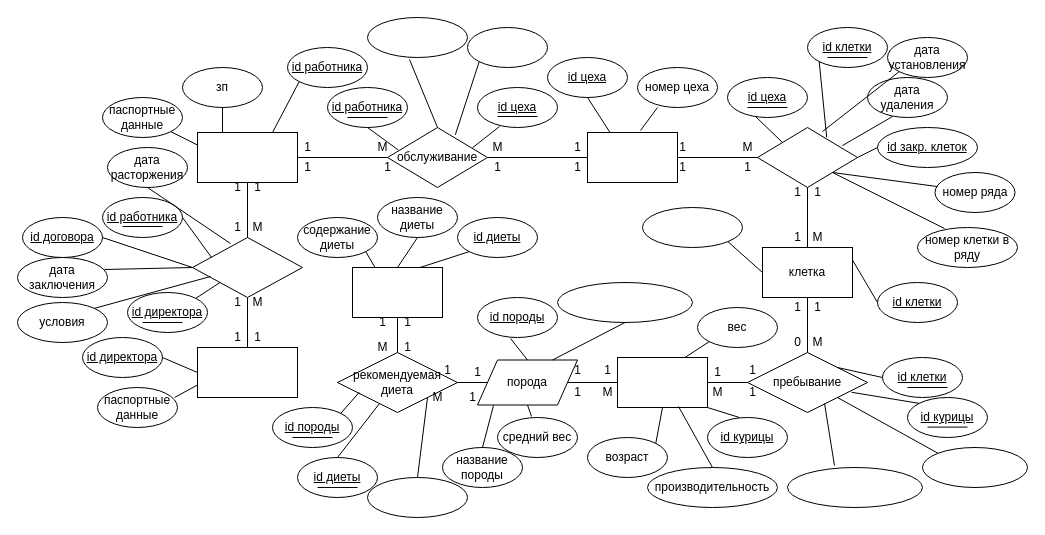
The diagram is 1045 pixels wide and 535 high, and some of its shapes have lost their labels. The shapes that lost their labels are listed below. From the top down, each one's centre as x and y in pixels, then its label:
At (417,37): "id обслуживания".
At (507,47): "дата".
At (247,157): "работник".
At (632,157): "цех".
At (807,157): "закрепленные клетки".
At (692,227): "вместимость".
At (247,267): "договор о найме".
At (397,292): "диета".
At (624,302): "средняя производительность".
At (247,372): "директор".
At (662,382): "курица".
At (854,487): "id пребывания".
At (975,467): "количество куриц в клетке".
At (417,497): "id соответствия".
